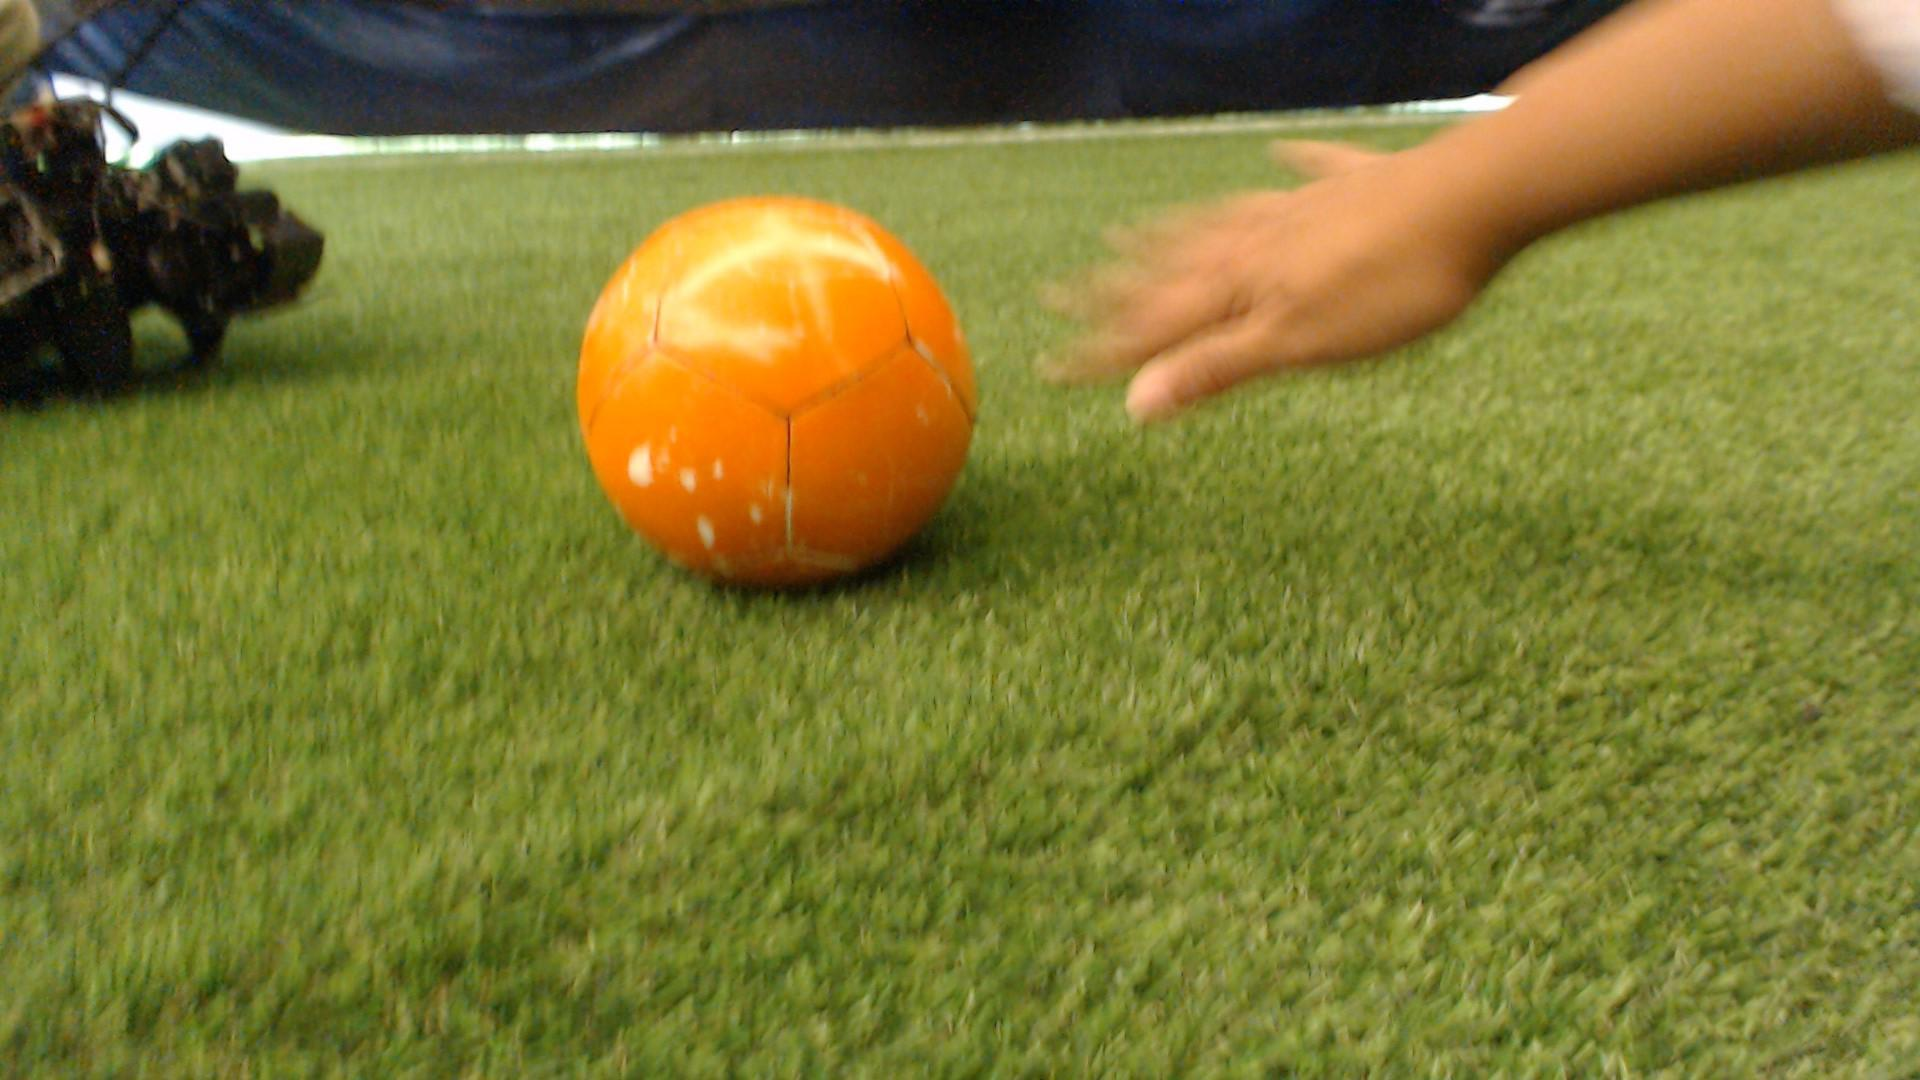bola: (545, 160, 1022, 624)
